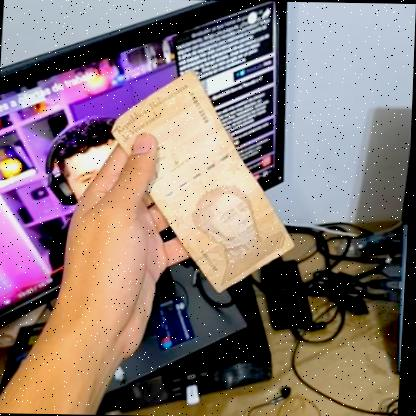five-front-vef: (103, 69, 306, 294)
